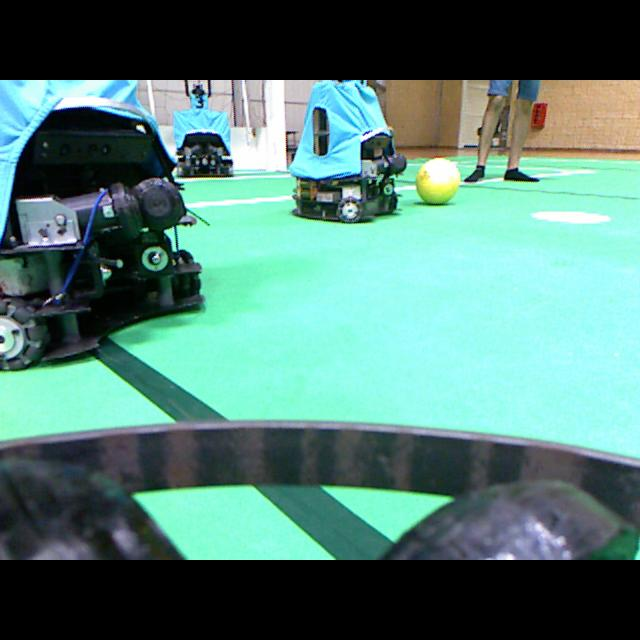ball: (416, 158, 459, 203)
goal: (265, 80, 286, 170)
